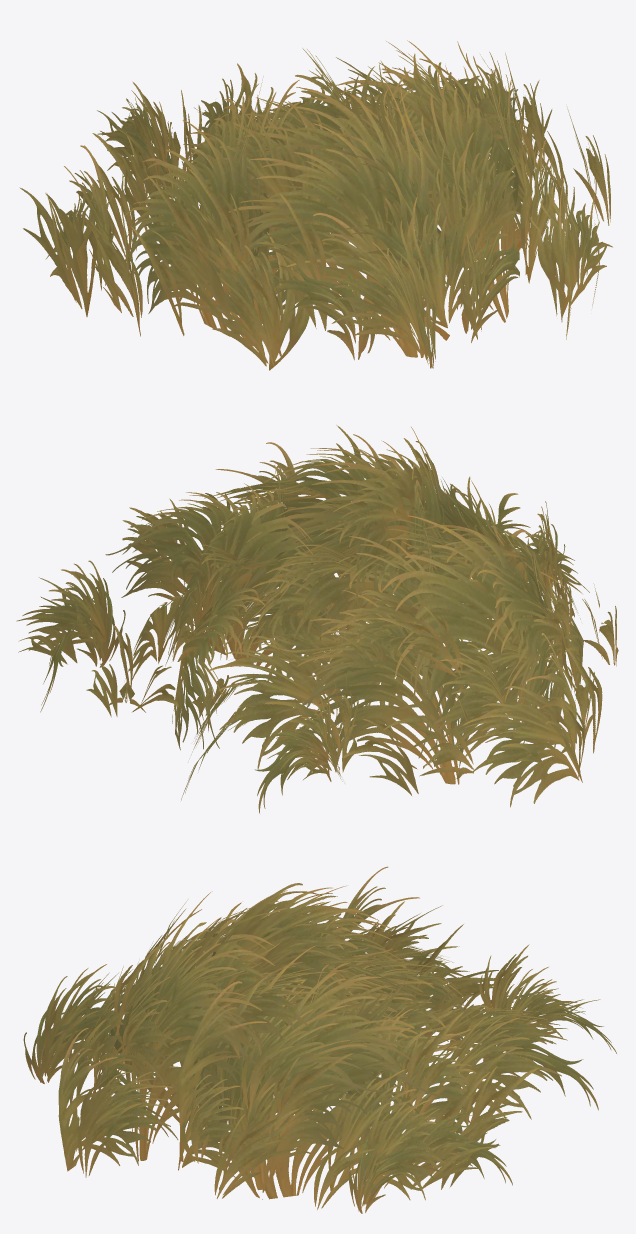
The picture shows the model from 3 angles, top to bottom: view 1: azimuth 30°, elevation 25°; view 2: azimuth 150°, elevation 25°; view 3: azimuth 270°, elevation 25°; orthographic projection. The views are drawn at different scales.
Size of the model in its own units: 11.32 by 5.76 by 11.76.
Materials: 1 (1 with a texture image).
